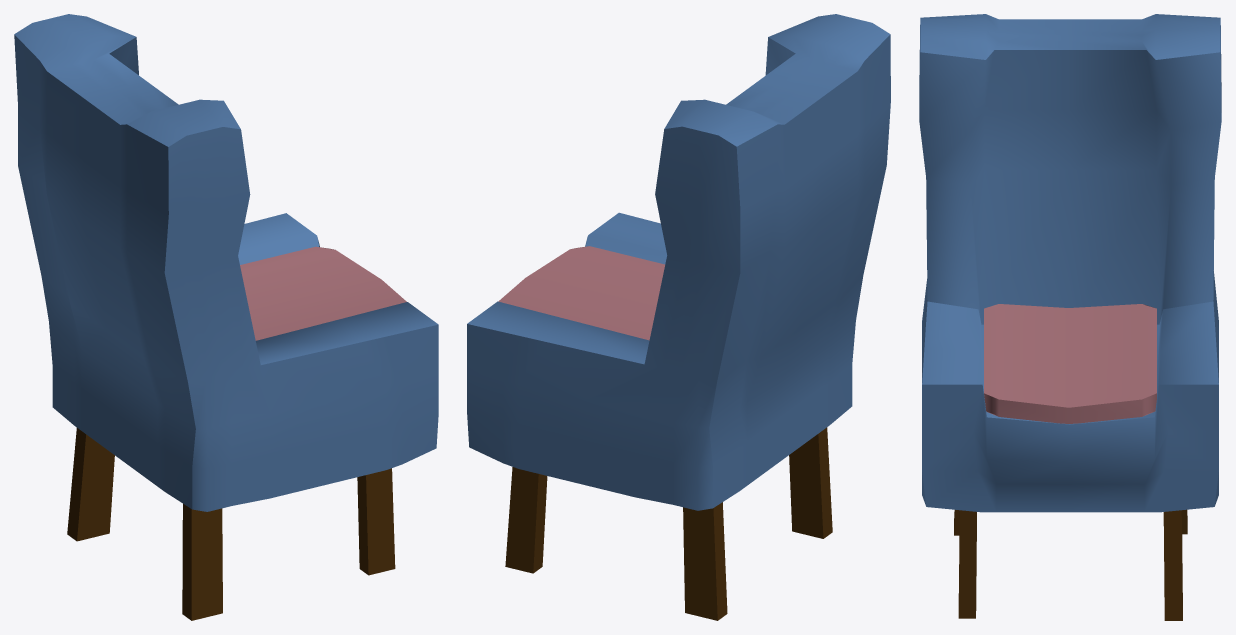
File: Chair.fbx
3 renders of one model, left to right at view 1: azimuth 30°, elevation 25°; view 2: azimuth 150°, elevation 25°; view 3: azimuth 270°, elevation 25°, orthographic. The views are drawn at different scales.
Parts seen in each view (by area): view 1: seat, pillow; view 2: seat, pillow; view 3: seat, pillow.
Boxes of the visible parts, x1,y1,x2,y2 form: seat: (14,14,438,620); pillow: (240,246,406,340); seat: (467,14,890,620); pillow: (498,246,664,340); seat: (919,14,1221,620); pillow: (984,304,1156,423).
Size of the model in its own units: 166 by 265 by 148.
